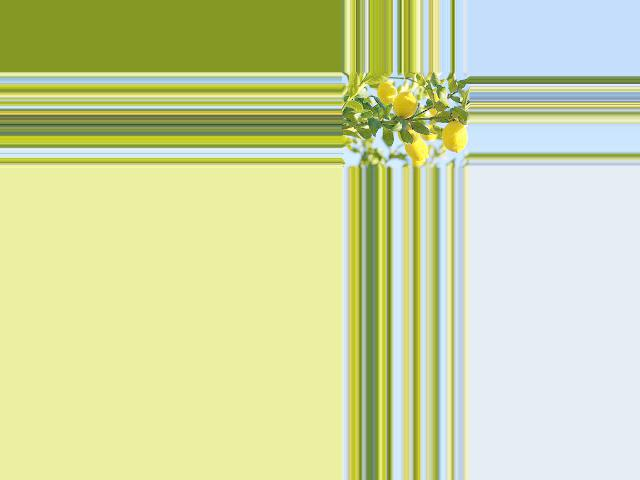lemon: (439, 118, 468, 156)
